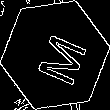M_W: (25, 24, 85, 86)
